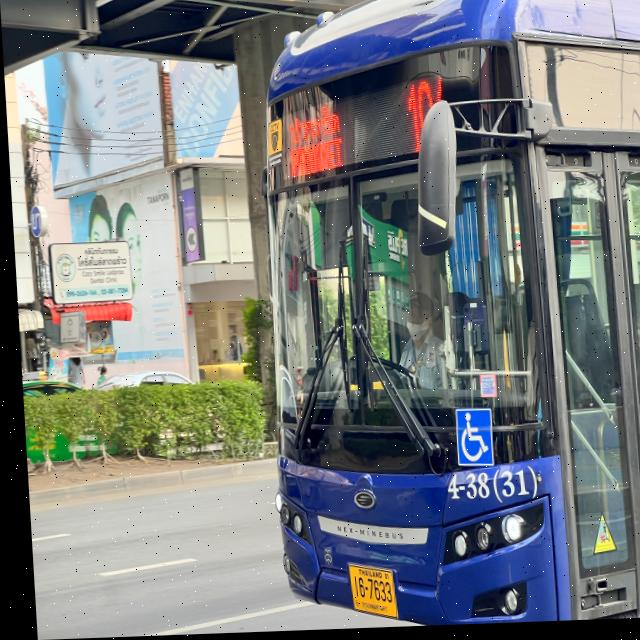BMTA-bus: (244, 0, 640, 633)
Bus-Line-Number: (403, 75, 447, 160)
Destination-Sign-Normal: (280, 102, 345, 176)
